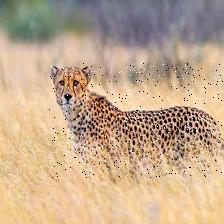Cheetha: (50, 64, 224, 179)
